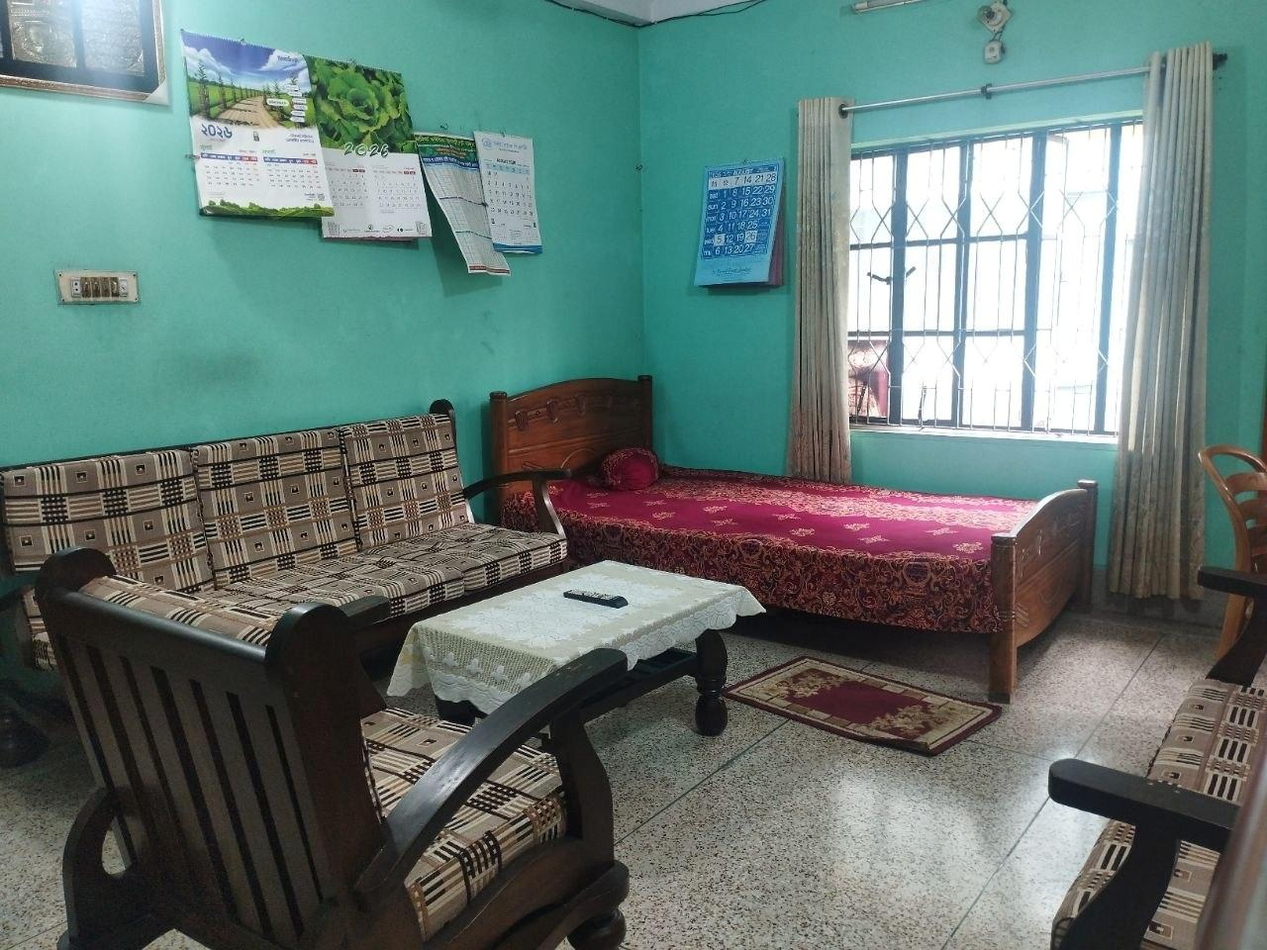Floor Mat: (373, 516, 779, 781), (720, 651, 1033, 750)
Light: (968, 2, 1017, 34)
Photo: (182, 38, 321, 139)
Pillow: (579, 444, 672, 488)
Remote: (289, 63, 420, 151), (535, 581, 642, 609)
Window: (833, 105, 1152, 440)
